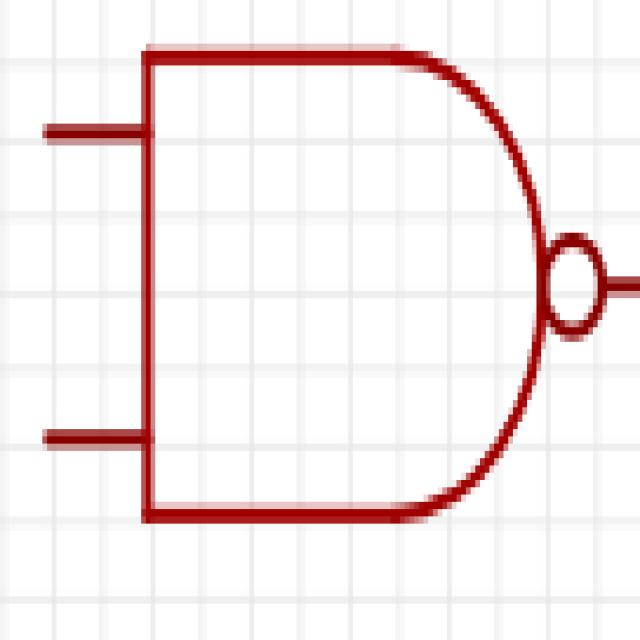nand: (39, 24, 634, 575)
